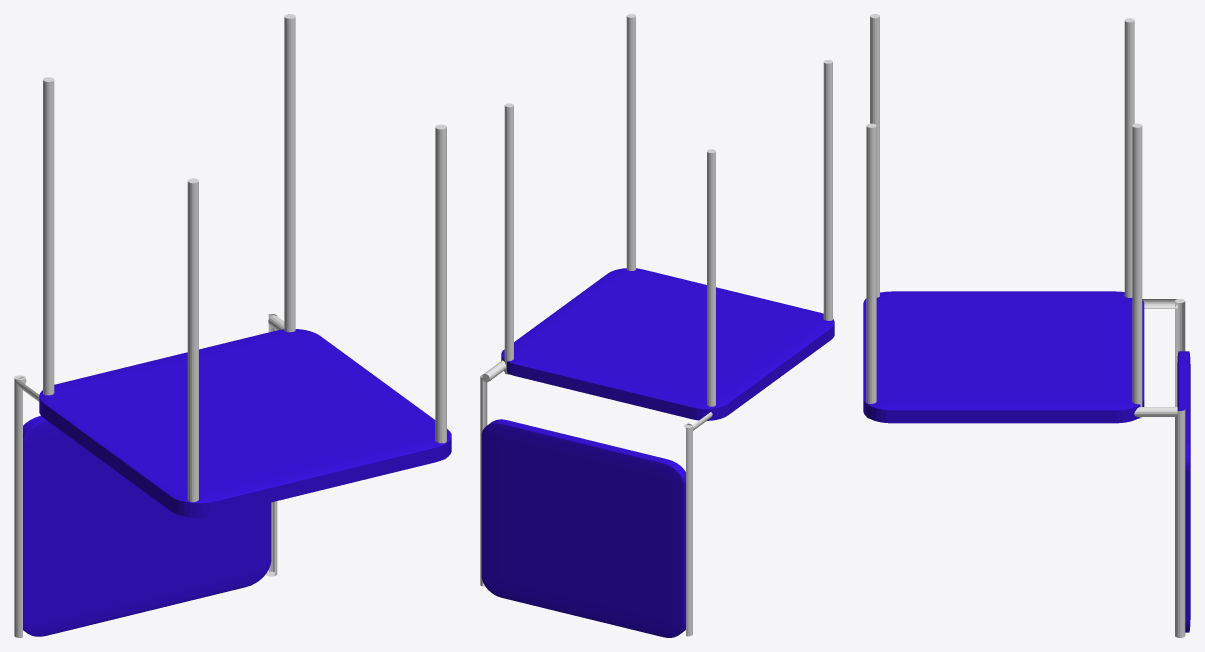
The model's file is silla.fbx.
3 views of the same model, side by side, from view 1: azimuth 30°, elevation 25°; view 2: azimuth 150°, elevation 25°; view 3: azimuth 270°, elevation 25° (orthographic). The views are drawn at different scales.
Parts seen in each view (by area): view 1: Cube, Cube.001, Cylinder.001, Cylinder, Cylinder.002, Cylinder.003, Cylinder.010, Cylinder.007; view 2: Cube.001, Cube, Cylinder.003, Cylinder.001, Cylinder, Cylinder.002, Cylinder.010, Cylinder.007; view 3: Cube, Cylinder.003, Cylinder, Cylinder.002, Cylinder.007, Cube.001, Cylinder.001, Cylinder.010.
Boxes of the visible parts, x1,y1,x2,y2 form: Cube: (39,329,451,517); Cube.001: (23,415,271,636); Cylinder.001: (187,178,198,502); Cylinder: (435,124,446,460); Cylinder.002: (43,77,54,395); Cylinder.003: (284,14,295,332); Cylinder.010: (14,378,22,637); Cylinder.007: (266,314,277,576); Cube.001: (481,419,685,637); Cube: (501,268,834,420); Cylinder.003: (504,103,513,374); Cylinder.001: (823,60,832,320); Cylinder: (626,14,635,270); Cylinder.002: (707,149,715,406); Cylinder.010: (686,426,692,636); Cylinder.007: (480,374,487,586); Cube: (863,291,1144,423); Cylinder.003: (1132,123,1142,418); Cylinder: (866,123,876,418); Cylinder.002: (1124,18,1134,297); Cylinder.007: (1175,409,1185,637); Cube.001: (1177,351,1190,632); Cylinder.001: (870,14,879,297); Cylinder.010: (1175,301,1185,406).
Size of the model in its own units: 40.23 by 81.69 by 46.87.
